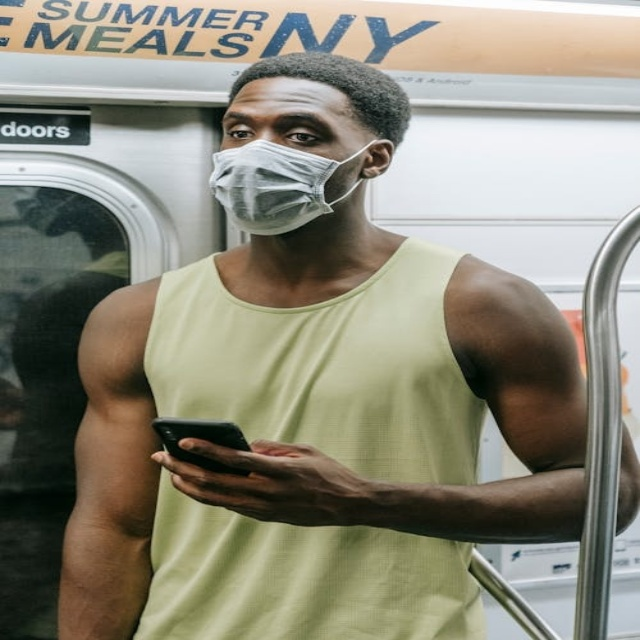Mascara: (209, 136, 371, 233)
Sin_gafas: (216, 107, 337, 146)
Sin_guantes: (150, 428, 367, 532)
